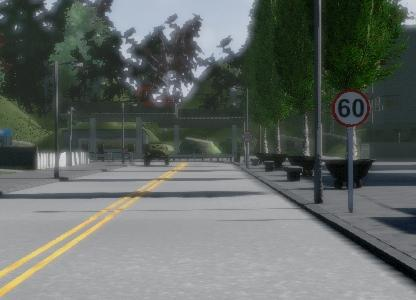Speed_60: (329, 84, 374, 130)
